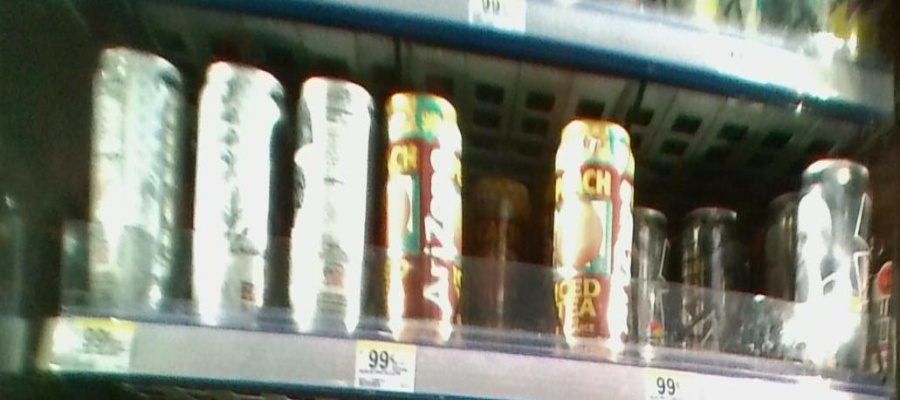bottle: (87, 40, 188, 323), (189, 39, 285, 322), (289, 52, 374, 341), (379, 69, 464, 346), (552, 107, 636, 363), (800, 151, 876, 376), (473, 160, 534, 353), (680, 197, 745, 356), (638, 189, 673, 350)
